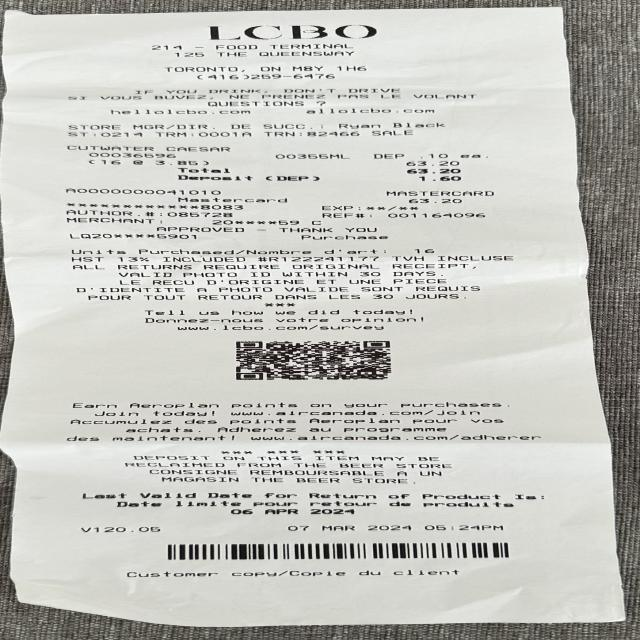item: (59, 142, 498, 168)
store_name: (200, 23, 387, 42)
total_amount: (168, 166, 474, 176)
transaction_date: (277, 523, 420, 534)
